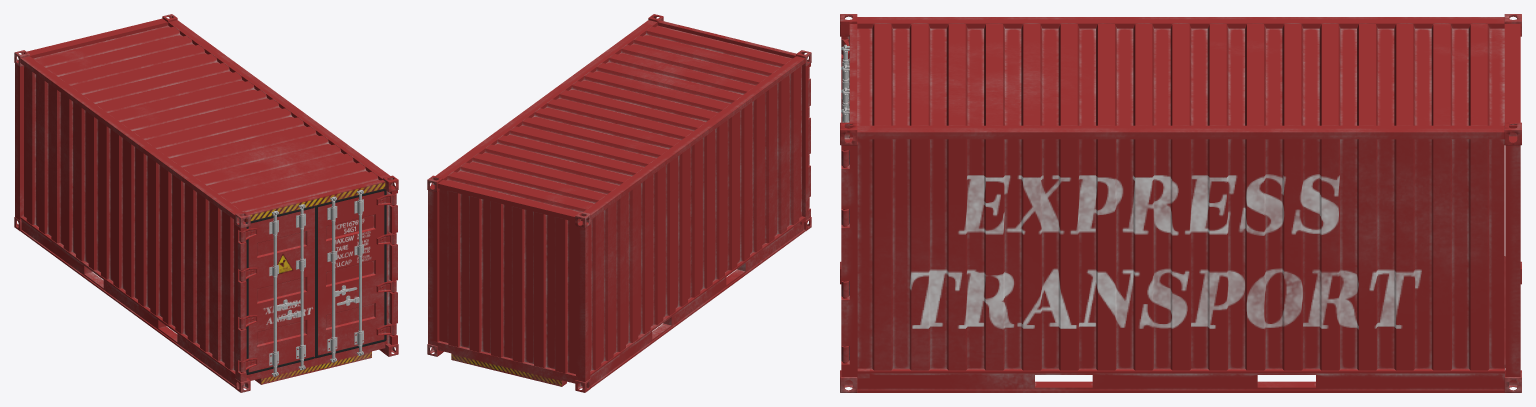
3 renders of one model, left to right at view 1: azimuth 30°, elevation 25°; view 2: azimuth 150°, elevation 25°; view 3: azimuth 270°, elevation 25°, orthographic. The views are drawn at different scales.
Parts seen in each view (by area): view 1: Container_Cargo; view 2: Container_Cargo; view 3: Container_Cargo.
Part boxes in pixels (box(x1,y1,x2,y2)): Container_Cargo: box(14, 14, 398, 392); Container_Cargo: box(427, 14, 811, 392); Container_Cargo: box(840, 14, 1521, 392).
Bounding box in the file's own units: 244 × 606 × 258.
Materials: 1 (1 with a texture image).
